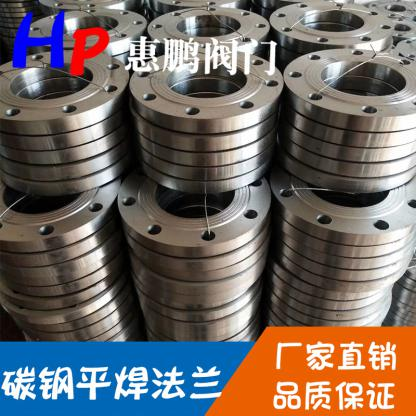FOD: (117, 156, 274, 260), (131, 45, 284, 134), (284, 45, 415, 135)
